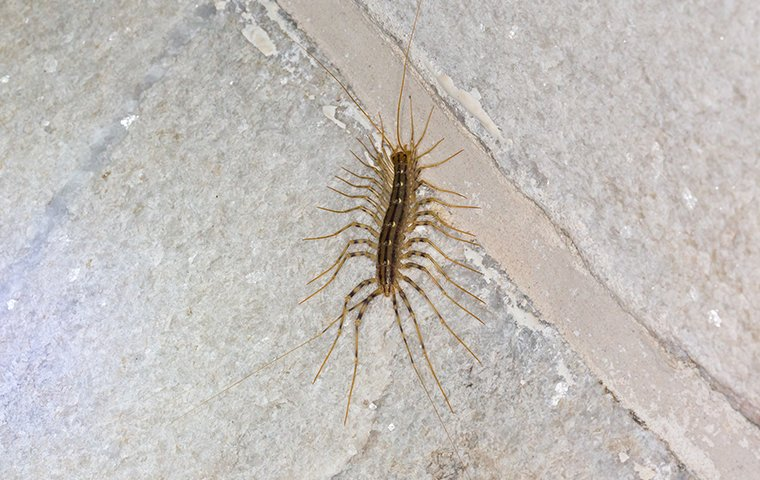centipede: (297, 71, 497, 427)
